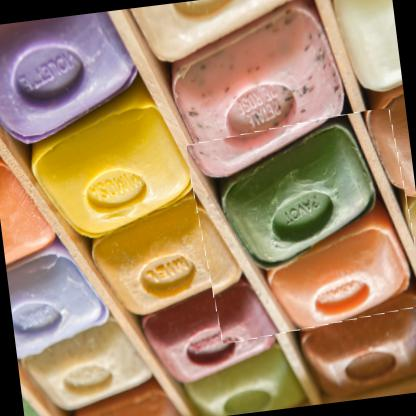soap: (186, 108, 415, 342)
